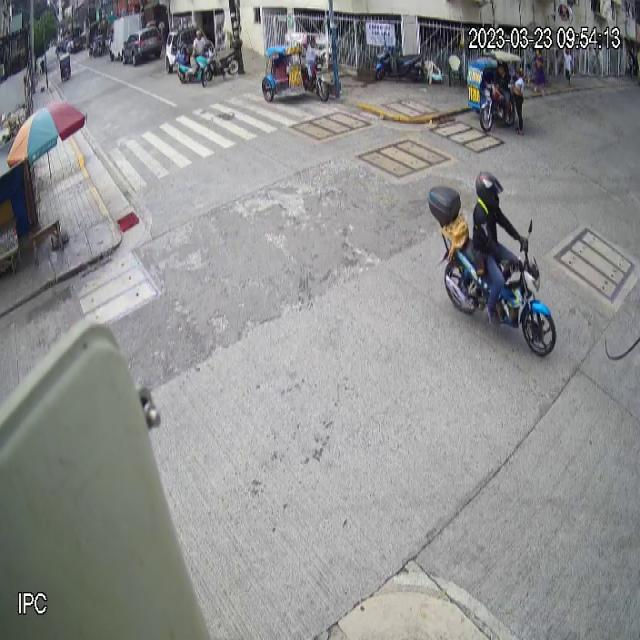Motorcycle: (428, 184, 557, 360)
Tricycle: (261, 31, 329, 104), (467, 48, 522, 133)
